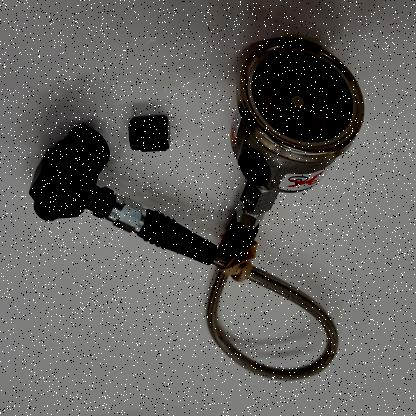needle: (285, 66, 298, 97)
